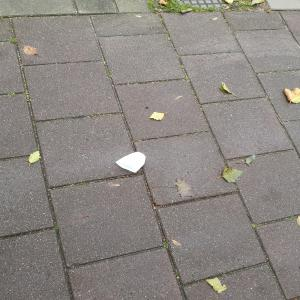Cup: (113, 151, 152, 178)
